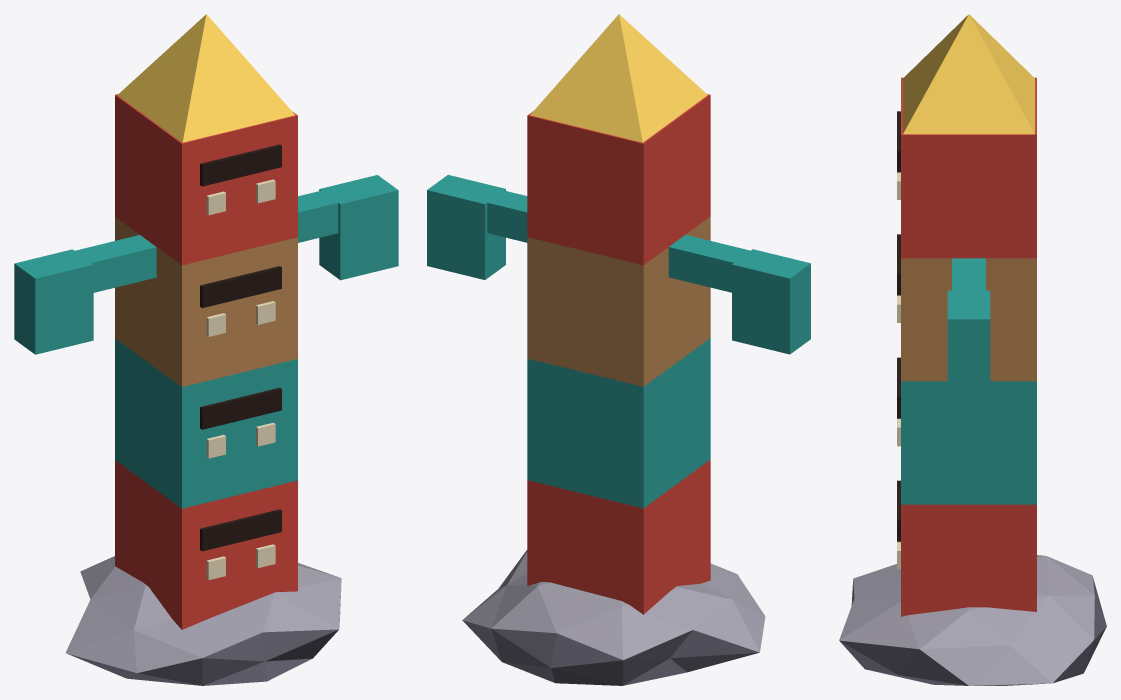
The model's file is CA_Totem.obj.
3 renders of one model, left to right at view 1: azimuth 30°, elevation 25°; view 2: azimuth 150°, elevation 25°; view 3: azimuth 270°, elevation 25°, orthographic.
Parts seen in each view (by area): view 1: CA_Totem; view 2: CA_Totem; view 3: CA_Totem.
Part boxes in pixels (x1=…): CA_Totem: x1=14, y1=14, x2=398, y2=685; CA_Totem: x1=427, y1=14, x2=810, y2=685; CA_Totem: x1=839, y1=14, x2=1106, y2=685.
Size of the model in its own units: 2.5 by 4.1 by 1.58.
